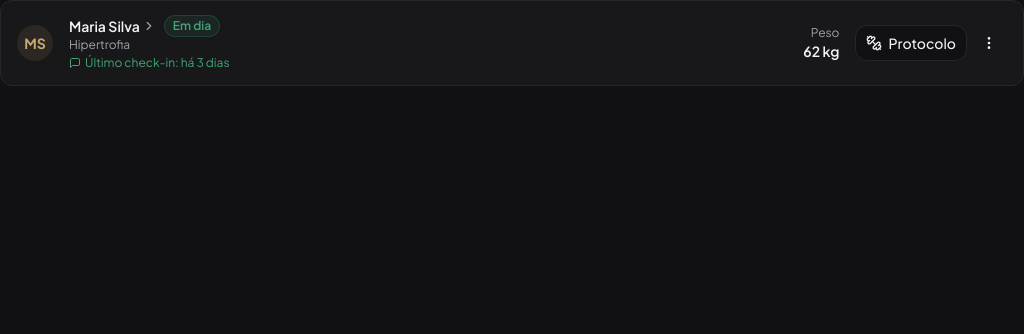
Test: linha do aluno no painel do coach › ações têm rótulo, menu leva às abas da ficha e Desvincular fica separado
Later steps or results of the test are not shown.
Click the button "Protocolo": (911, 43) x1=856 y1=25 x2=967 y2=61
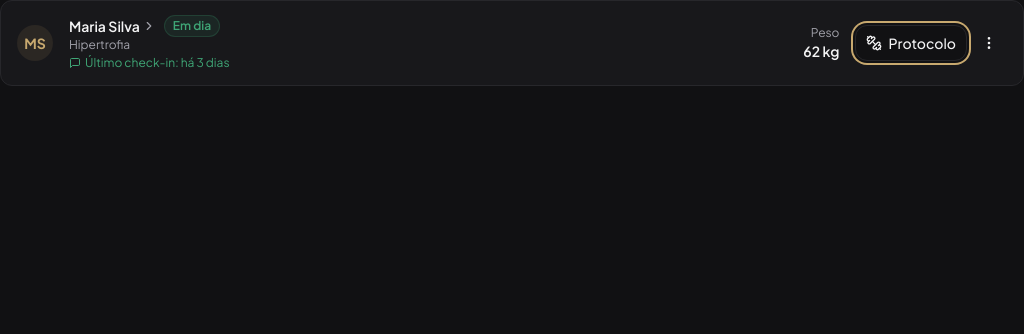
Click the button named "mais ações para maria silva": (989, 43) x1=971 y1=25 x2=1007 y2=61
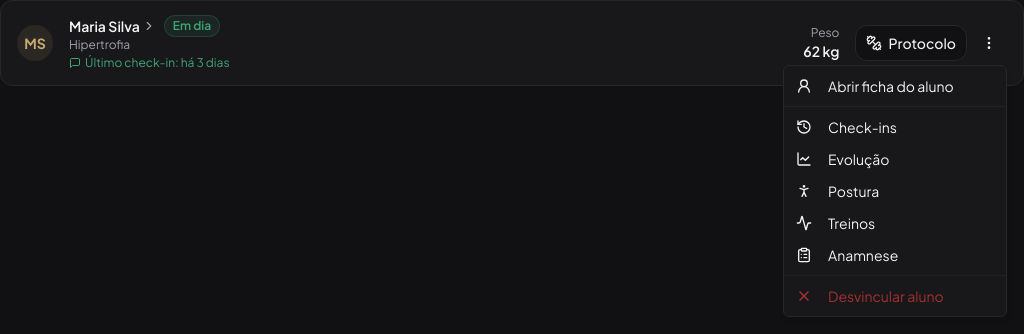
Expected: the menu item "Abrir ficha do aluno" is shown, x1=796 y1=77 x2=954 y2=95
Expected: the menu item "Check-ins" is shown, x1=796 y1=118 x2=897 y2=136
Expected: the menu item "Evolução" is shown, x1=796 y1=150 x2=890 y2=168
